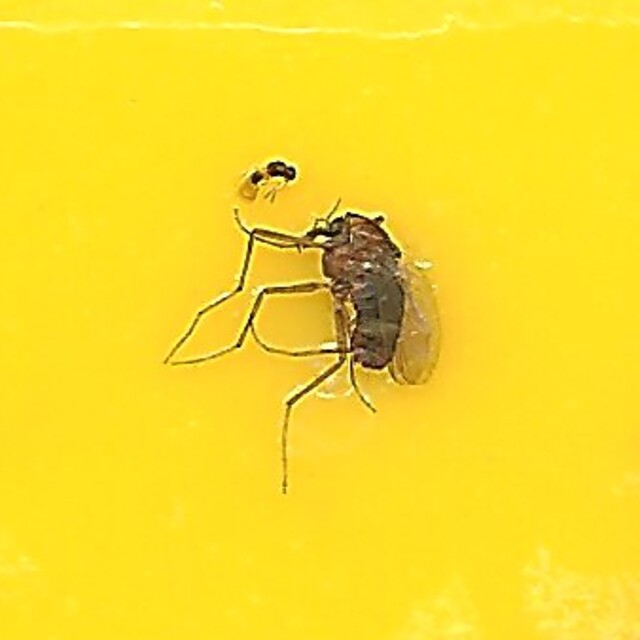Nematocera: (189, 178, 451, 462)
